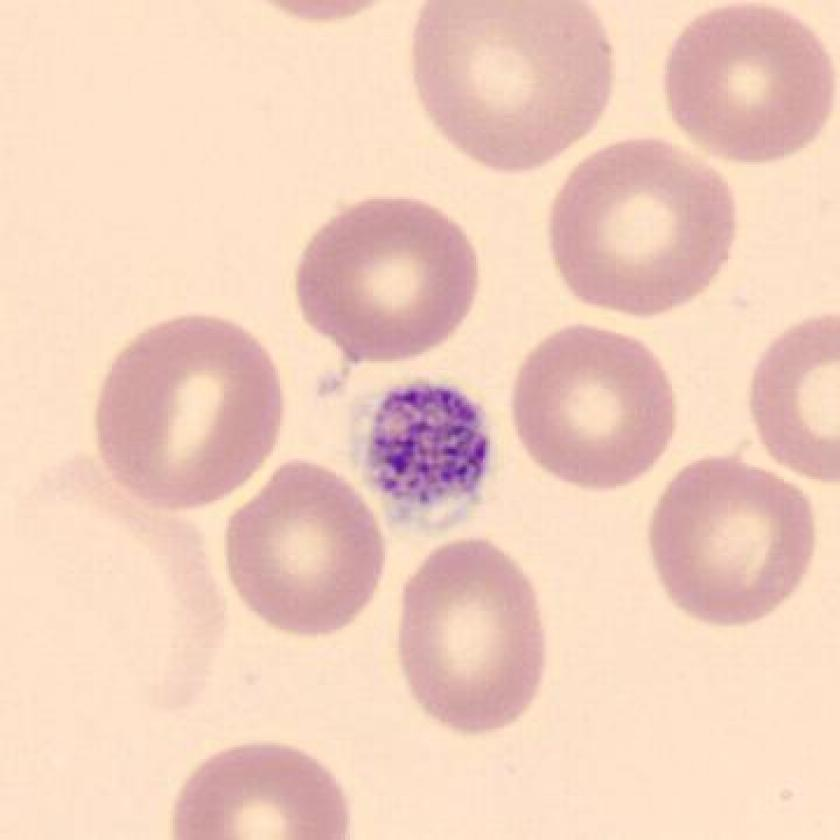platelets: (353, 378, 496, 531)
